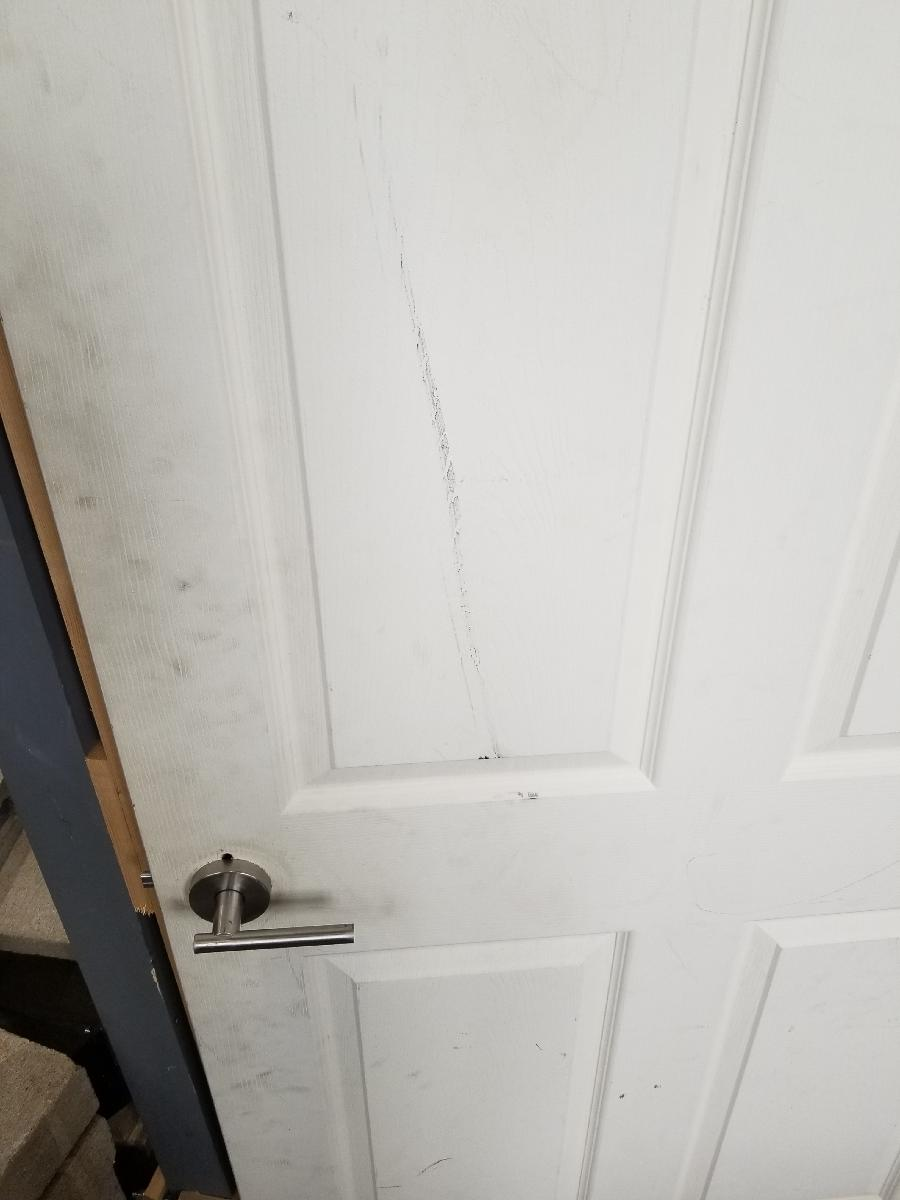doorHandle: (182, 853, 360, 961)
